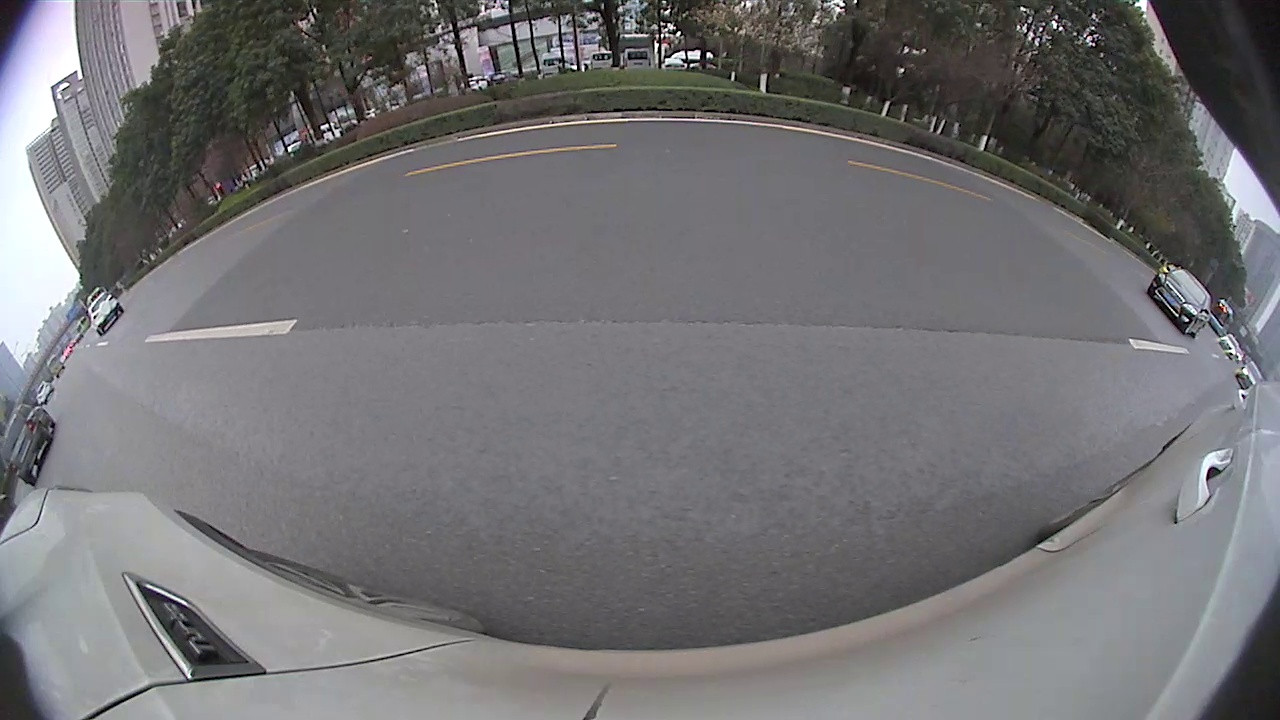bus: (768, 131, 925, 212), (686, 132, 748, 190)
car: (905, 152, 1111, 279), (750, 147, 898, 229), (590, 138, 698, 218), (1213, 362, 1279, 436), (536, 158, 589, 194), (1224, 346, 1263, 376)
front: (906, 201, 925, 226), (747, 179, 764, 205)
rear: (1010, 234, 1044, 271), (792, 184, 813, 221)
